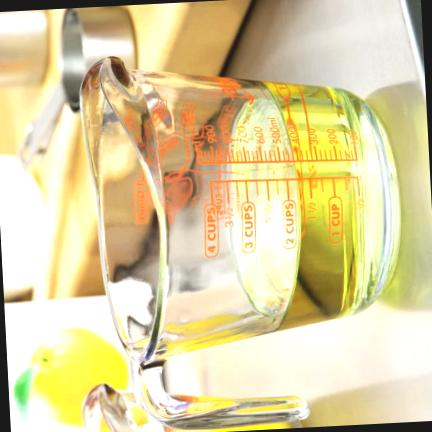container: (81, 78, 398, 358), (396, 0, 424, 88)
fluid: (265, 83, 385, 324)
fluid-surface: (228, 98, 298, 314)
